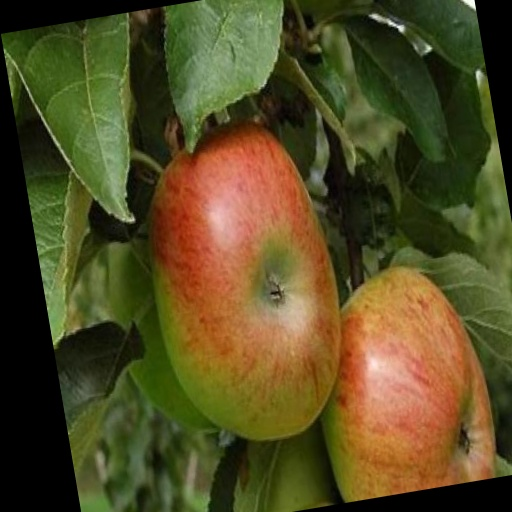fruit: (150, 123, 340, 439), (322, 267, 495, 502), (108, 242, 214, 430), (236, 422, 336, 512)
